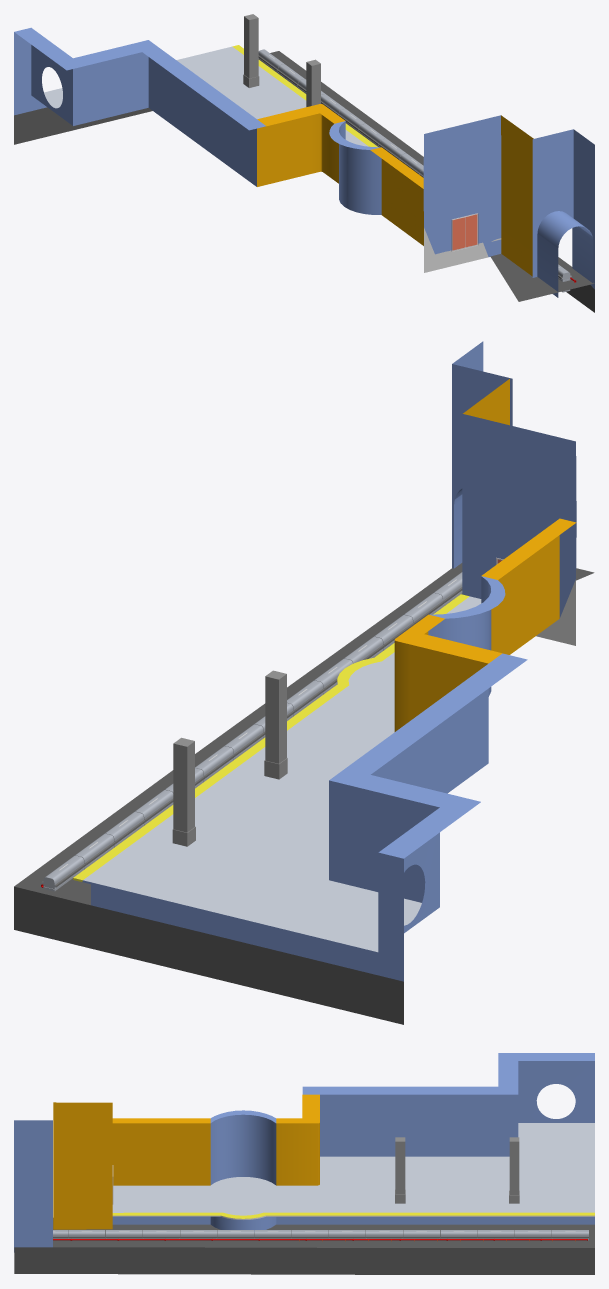
File: OBSempty.fbx
3 views of the same model, one above another, from view 1: azimuth 30°, elevation 25°; view 2: azimuth 150°, elevation 25°; view 3: azimuth 270°, elevation 25° (orthographic). The views are drawn at different scales.
Parts seen in each view (by area): view 1: Cube.002, Cube.006, Cube.013, Cube.009, Cube; view 2: Cube.002, Cube.006, Cube.013, Cube.009; view 3: Cube.002, Cube.006, Cube.009, Cube.013, Cylinder.
Part boxes in pixels (left/top/right/bottom): Cube.002: left=14, top=27, right=594, bottom=312; Cube.006: left=258, top=49, right=571, bottom=292; Cube.013: left=243, top=14, right=320, bottom=106; Cube.009: left=31, top=45, right=72, bottom=125; Cube: left=451, top=213, right=478, bottom=251; Cube.002: left=14, top=341, right=594, bottom=1024; Cube.006: left=41, top=572, right=462, bottom=891; Cube.013: left=172, top=670, right=287, bottom=846; Cube.009: left=404, top=832, right=439, bottom=933; Cube.002: left=14, top=1053, right=594, bottom=1274; Cube.006: left=53, top=1230, right=588, bottom=1240; Cube.009: left=518, top=1061, right=594, bottom=1122; Cube.013: left=395, top=1137, right=519, bottom=1203; Cylinder: left=53, top=1239, right=587, bottom=1240.
Size of the model in its own units: 1323 by 803 by 2746.
